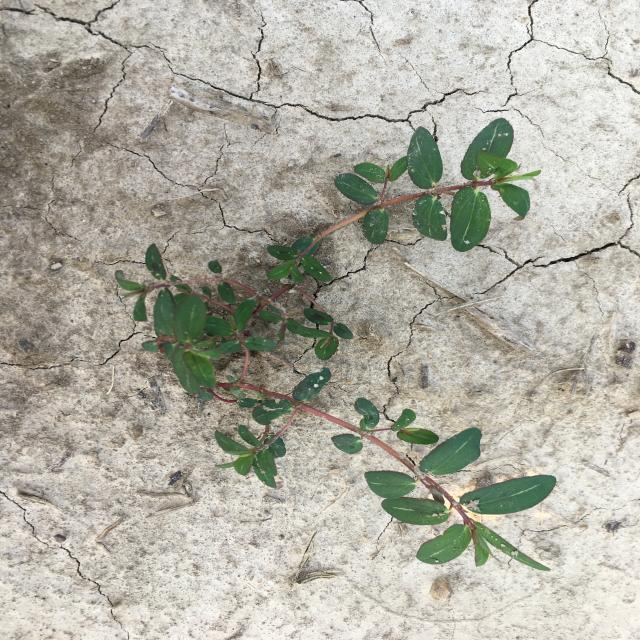SpottedSpurge: (115, 118, 558, 572)
